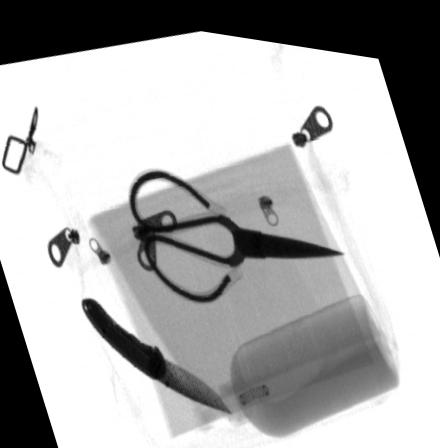Knife: (80, 294, 234, 405)
Scissors: (127, 163, 346, 299)
